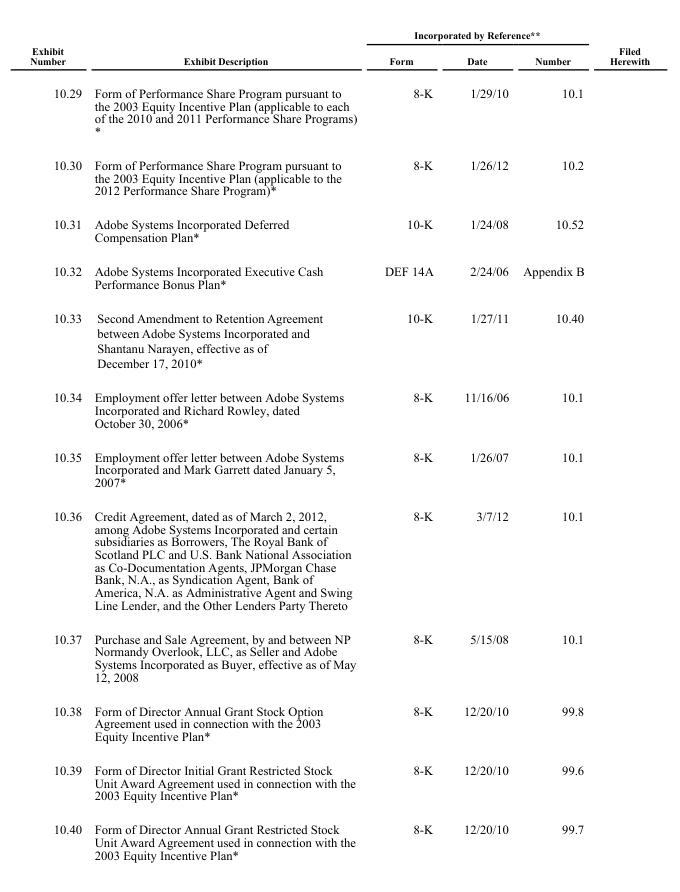table: (29, 29, 649, 861)
table column: (87, 29, 370, 861), (515, 29, 596, 861), (370, 29, 447, 861), (447, 29, 515, 861), (29, 29, 87, 861), (596, 29, 649, 861)
table column header: (29, 29, 649, 75)
table row: (29, 498, 649, 621), (29, 300, 649, 380), (29, 75, 649, 147), (29, 621, 649, 693), (29, 147, 649, 207), (29, 380, 649, 439), (29, 439, 649, 498), (29, 693, 649, 752), (29, 752, 649, 811), (29, 811, 649, 861), (29, 253, 649, 300), (29, 207, 649, 253), (29, 47, 649, 75), (29, 29, 649, 47)
table spanning cell: (87, 29, 370, 75), (370, 29, 596, 47), (29, 29, 87, 75), (596, 29, 649, 75)
